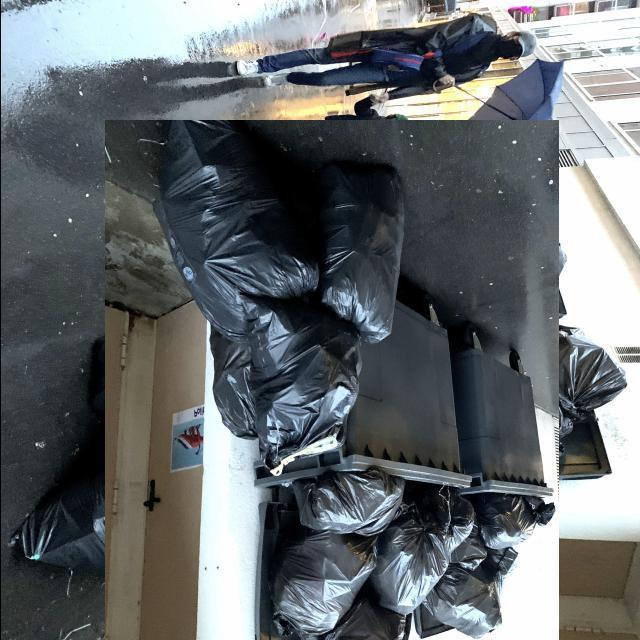Trashbag: (142, 123, 315, 310), (223, 290, 362, 476), (307, 151, 418, 330), (255, 525, 383, 632), (278, 454, 406, 541), (370, 511, 452, 609), (426, 564, 504, 638), (476, 487, 550, 553)
